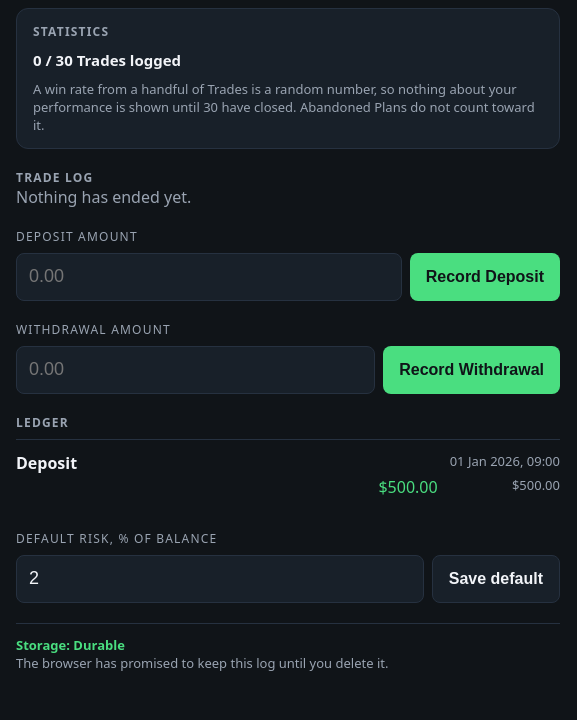
Test: the Risk default, once changed › is what the next Plan starts at
(page scrolled)
Replace the text in the number field labelled "Default Risk, % of Balance" with "3" at x=220, y=579, box [16, 555, 424, 603]
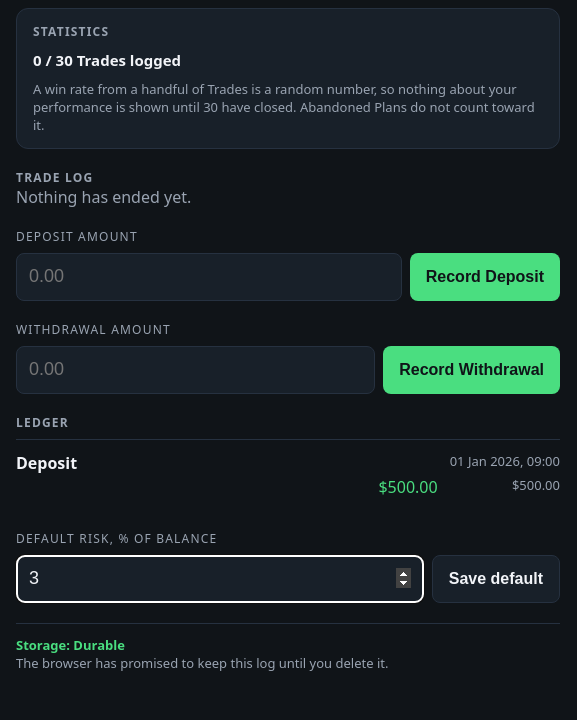
Click the button "Save default".
click(496, 579)  # box [432, 555, 560, 603]
(page scrolled)
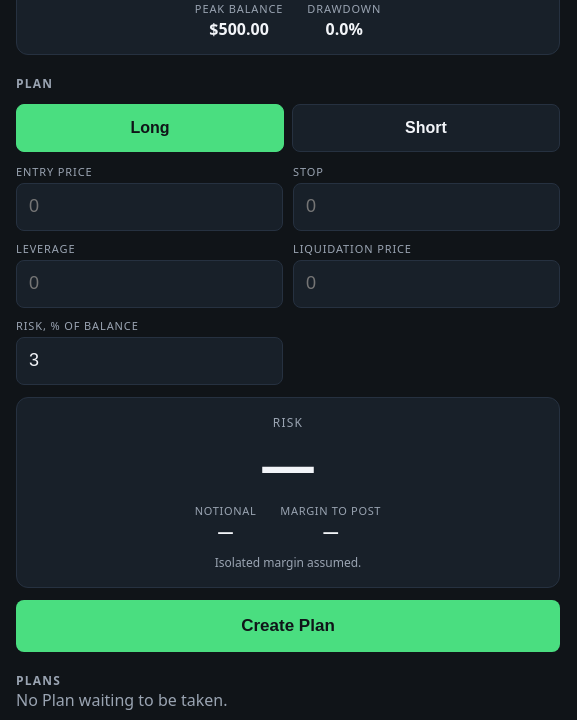
Now the number field labelled "Risk, % of Balance" holds "3", box [16, 337, 283, 385]
